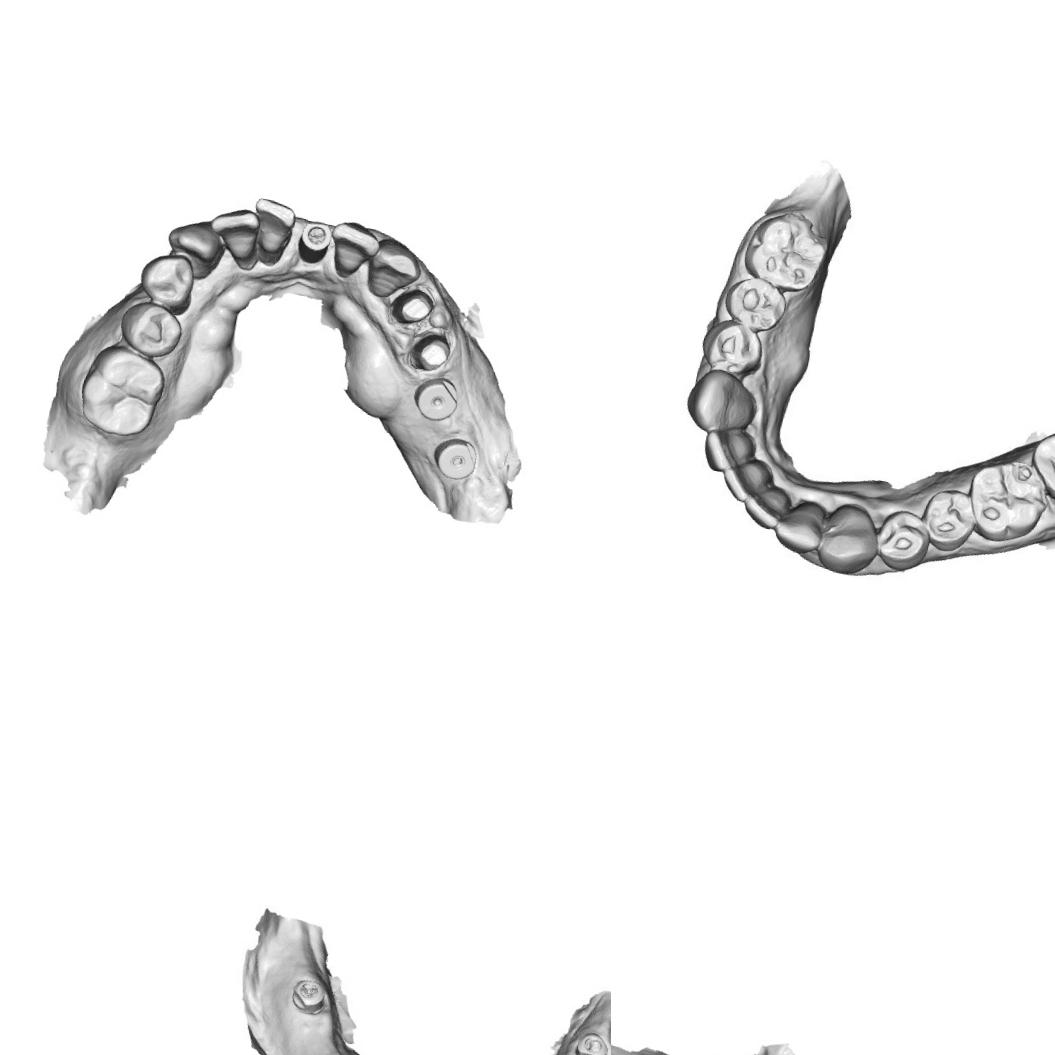canine: (681, 363, 762, 440), (812, 498, 884, 580), (362, 232, 426, 302), (160, 216, 227, 282)
crown: (402, 326, 460, 380), (386, 280, 437, 331)
implant: (409, 370, 464, 426), (429, 432, 484, 483), (286, 974, 330, 1014), (298, 220, 333, 261), (572, 1028, 610, 1055)
incisor: (204, 202, 266, 264), (322, 218, 380, 284), (770, 494, 828, 557), (245, 194, 299, 258), (698, 423, 758, 477), (718, 452, 774, 506), (739, 480, 792, 532)
molar: (73, 340, 171, 444), (738, 200, 834, 300), (959, 452, 1055, 550), (1022, 415, 1055, 512)
premolar: (115, 296, 188, 364), (916, 483, 982, 556), (870, 504, 936, 575), (719, 271, 791, 335), (696, 314, 767, 378), (134, 247, 200, 312)
